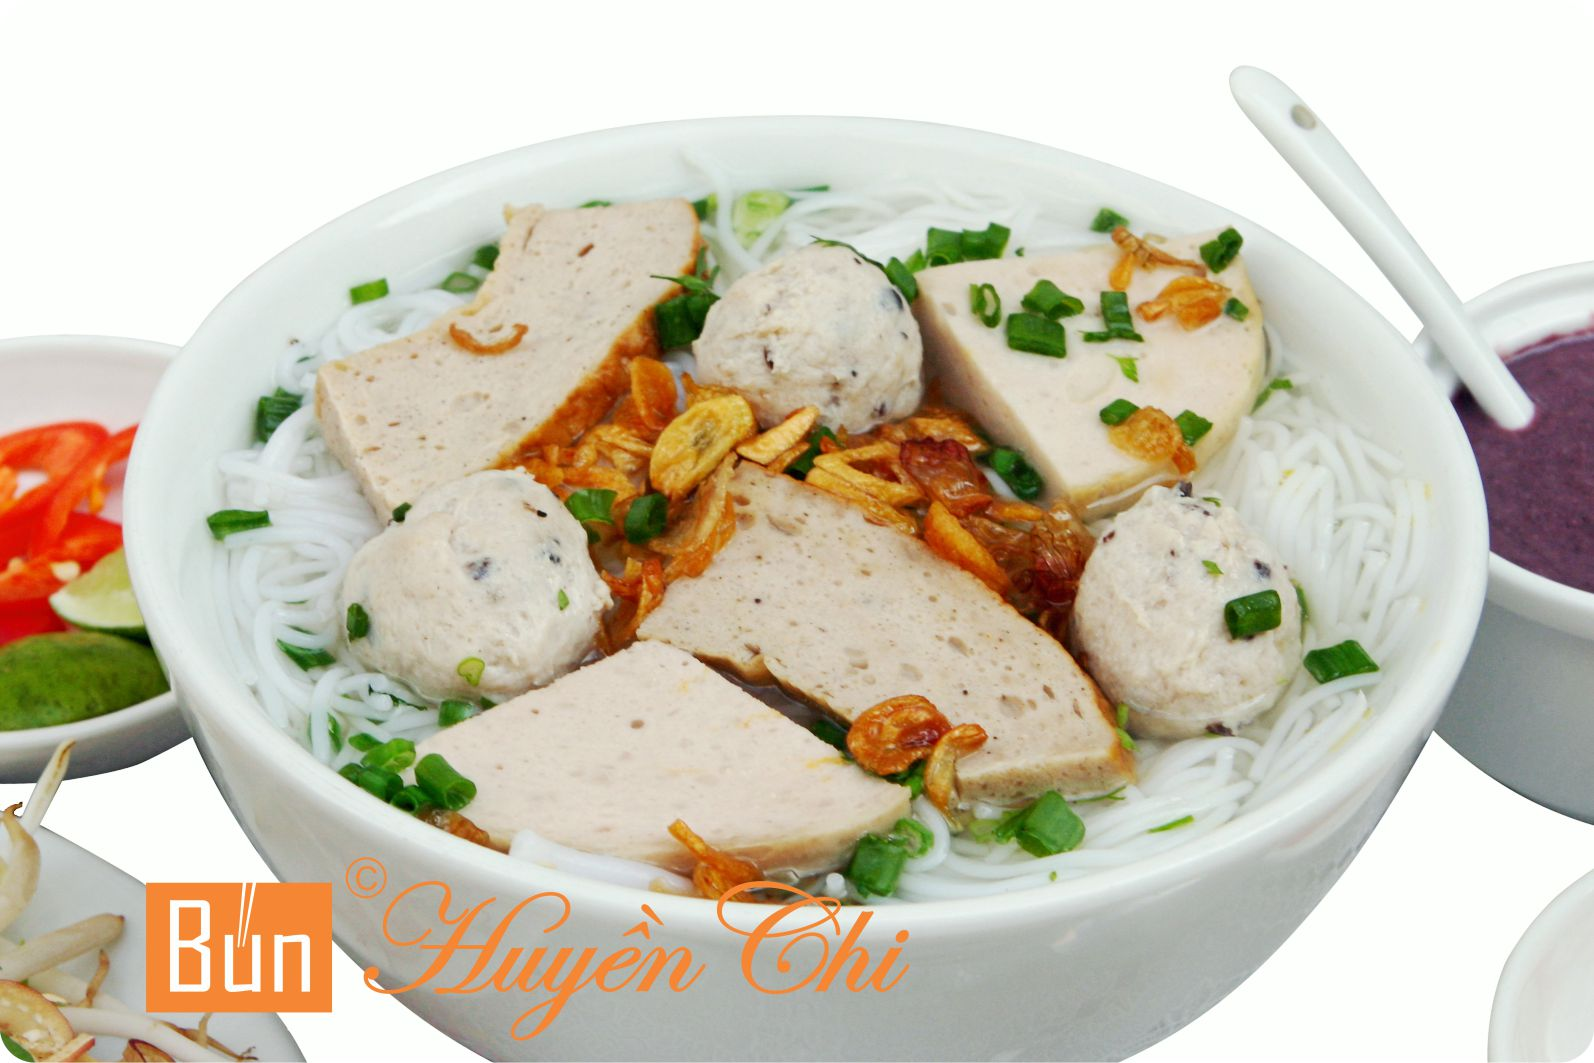chamoc: (700, 463, 1122, 801), (455, 644, 908, 877), (408, 196, 718, 424), (326, 477, 605, 688), (1072, 485, 1303, 736), (704, 222, 929, 438)
onion: (843, 419, 1070, 584)
